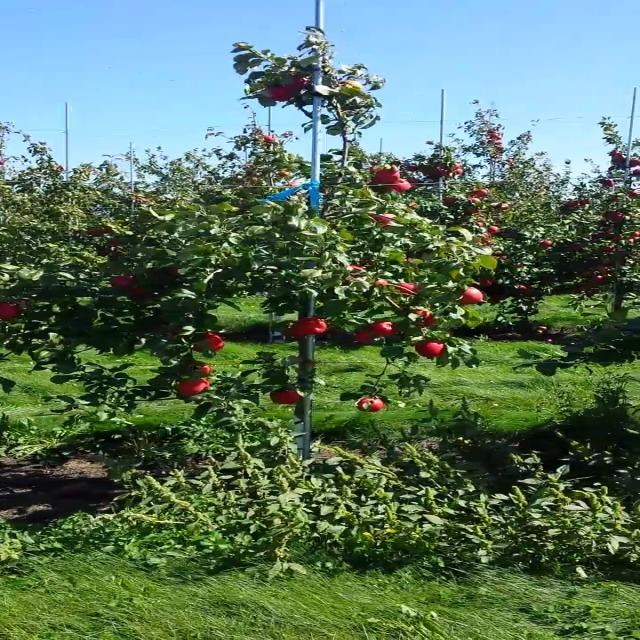apple: (292, 317, 328, 335), (177, 378, 211, 396), (193, 333, 223, 353), (456, 286, 484, 305), (415, 340, 444, 358), (355, 397, 385, 413), (412, 309, 437, 327), (368, 321, 396, 336), (270, 390, 299, 404), (271, 86, 294, 102), (386, 178, 412, 192), (372, 214, 398, 228), (0, 303, 19, 319), (376, 170, 400, 182), (394, 282, 418, 294), (287, 78, 308, 90), (354, 331, 371, 345), (110, 276, 132, 286), (125, 288, 146, 296), (344, 81, 363, 89), (198, 365, 212, 375), (350, 265, 364, 271), (374, 280, 390, 285)
